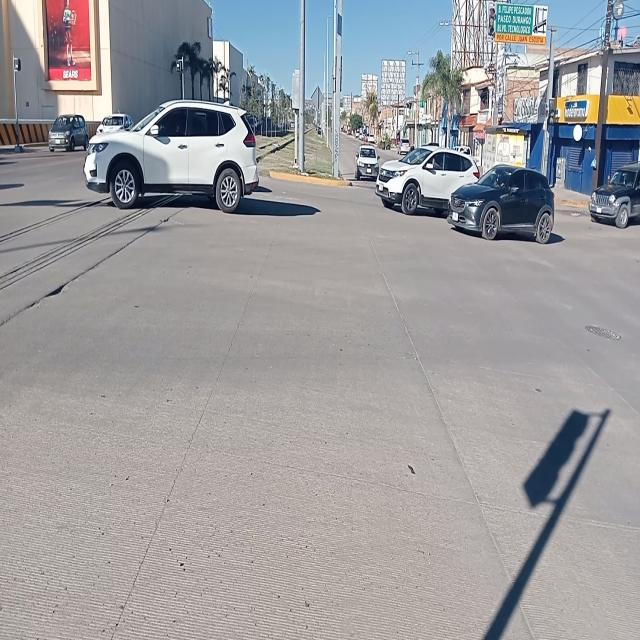Auto: (82, 99, 260, 213), (448, 166, 554, 245)
